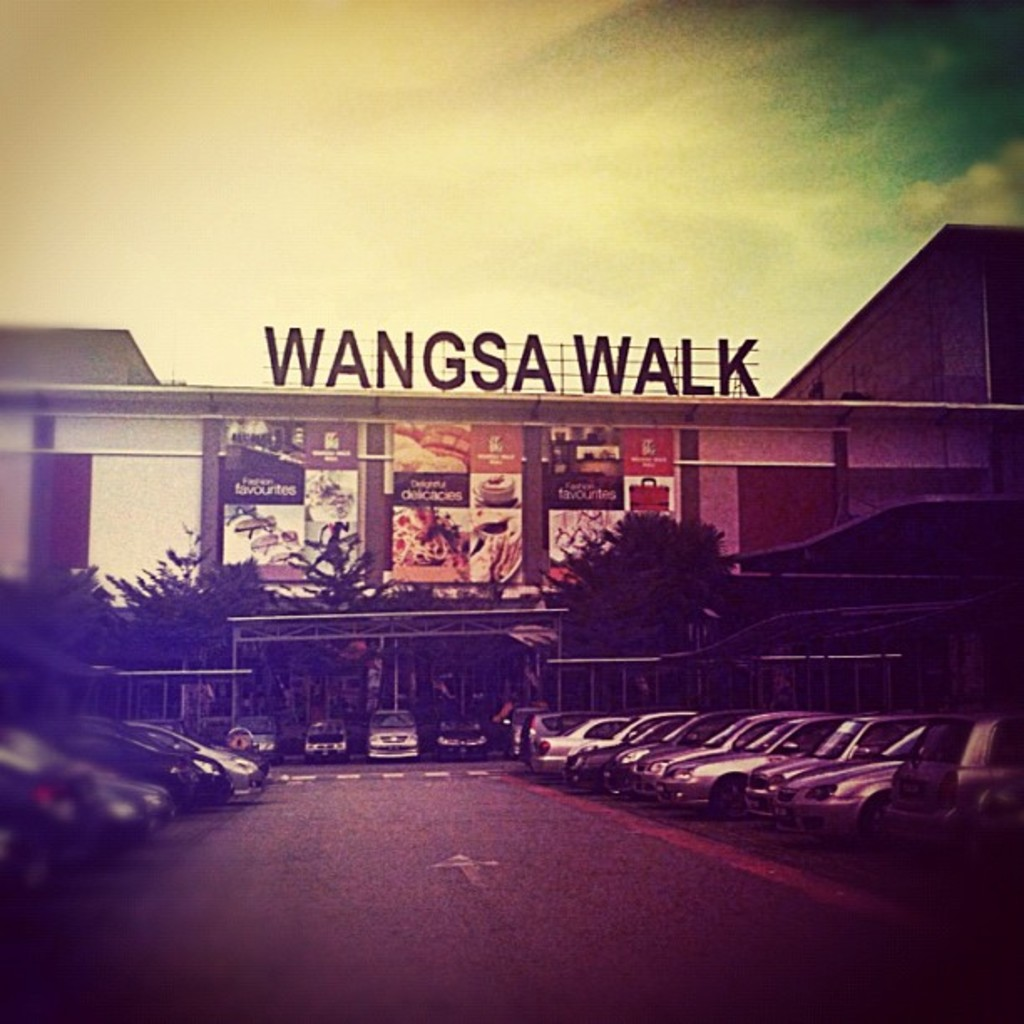Car: (493, 696, 1022, 890), (0, 702, 289, 868), (783, 709, 1022, 838), (652, 714, 858, 818), (563, 712, 699, 789), (527, 709, 649, 778), (190, 714, 282, 766), (423, 699, 490, 764), (359, 704, 428, 759), (301, 712, 358, 757)
